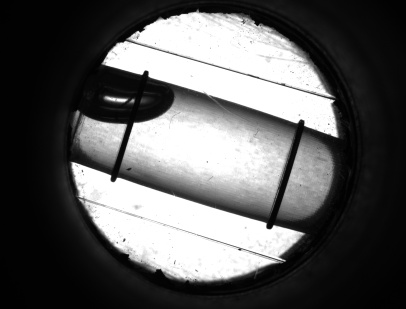line: (268, 142, 301, 207), (111, 128, 135, 162)
